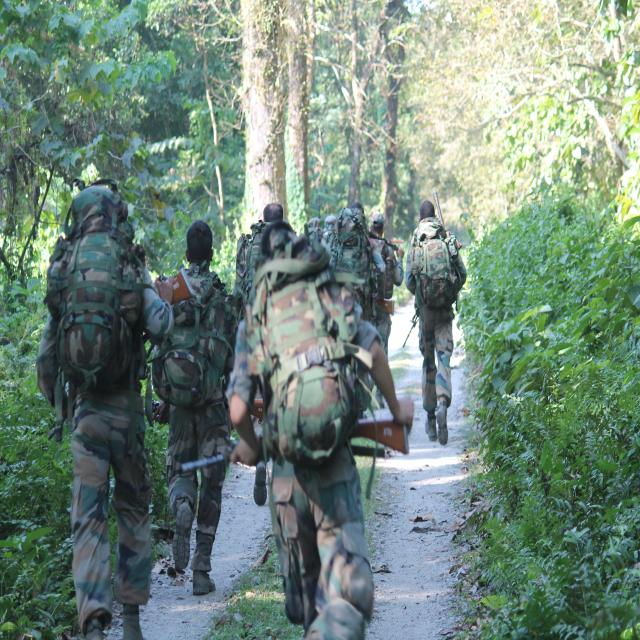Forest: (0, 1, 640, 639)
Militant: (34, 171, 185, 640), (251, 217, 388, 640), (151, 196, 243, 630), (401, 190, 478, 466), (332, 180, 407, 458)
